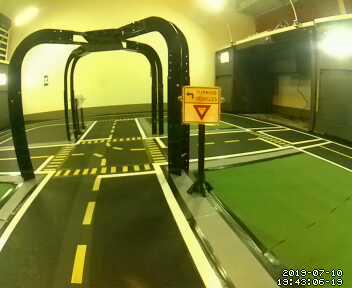Turn Yield: (182, 86, 221, 126)
